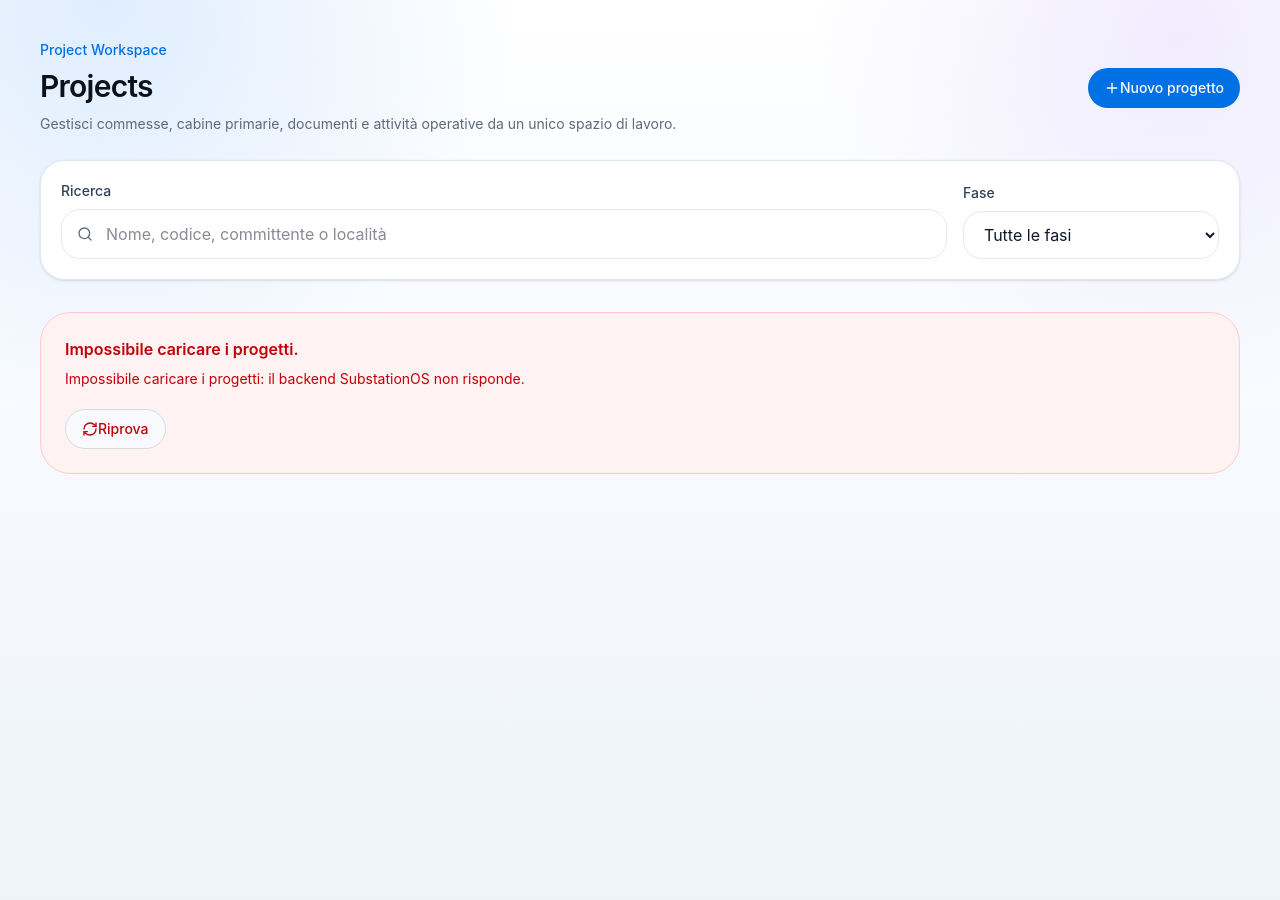
project listing › offers a retry when the backend cannot be reached
expect the text "il backend SubstationOS non risponde" is shown: met, box [65, 370, 525, 387]
Click the button "Riprova" at (115, 429), box [65, 409, 166, 449]
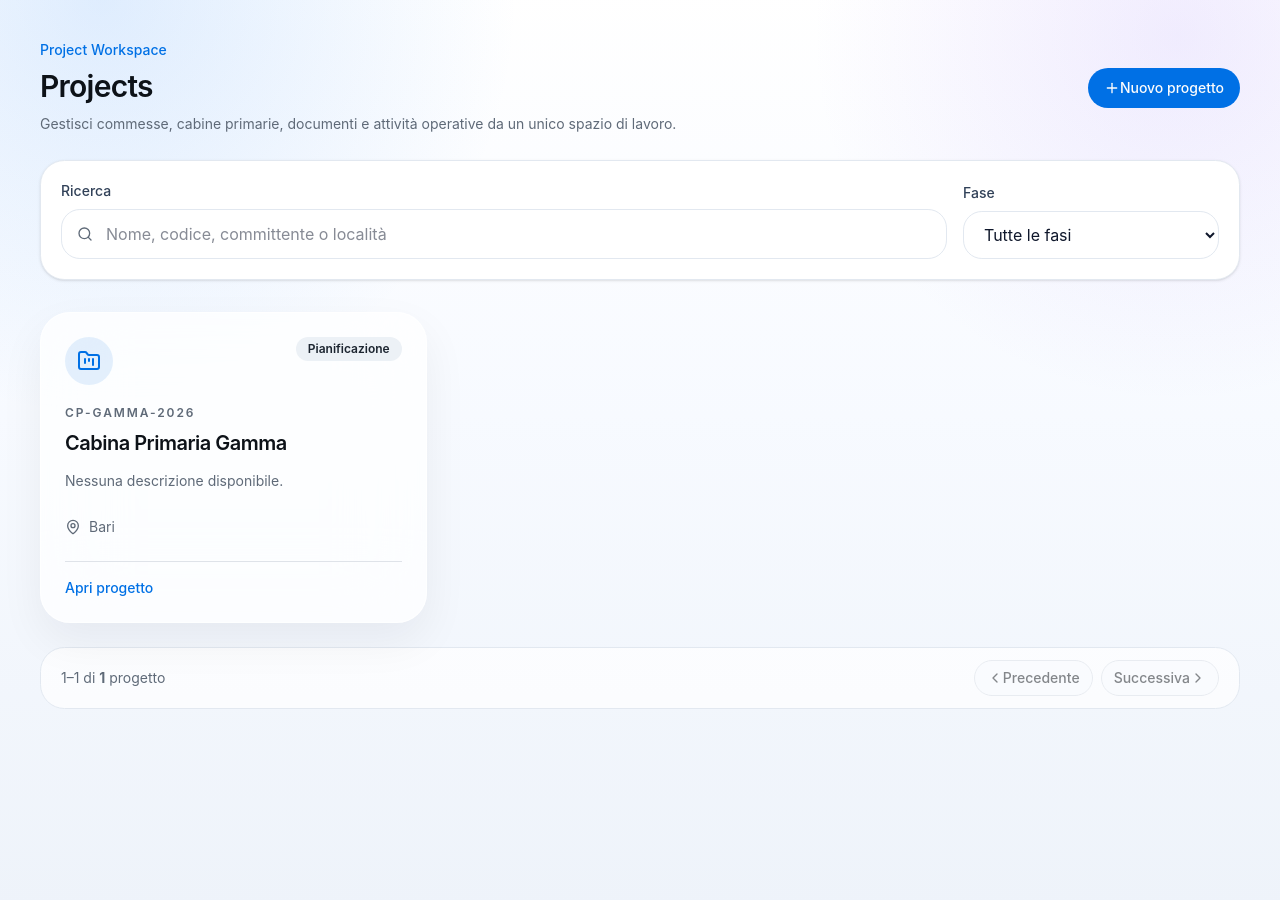
expect the heading "Cabina Primaria Gamma" is shown: met, box [65, 431, 287, 455]
